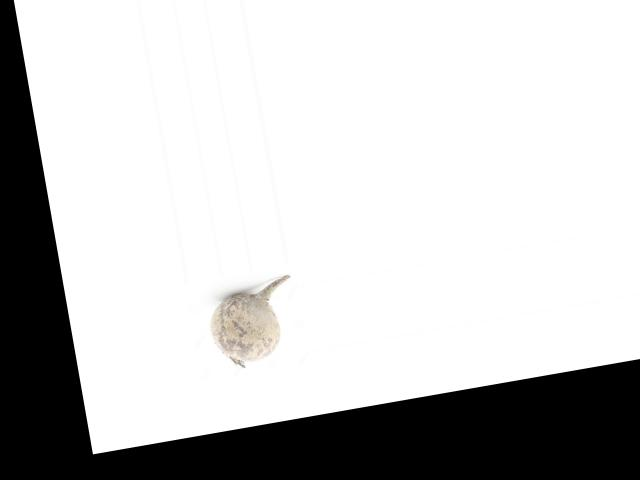beet: (203, 274, 303, 372)
